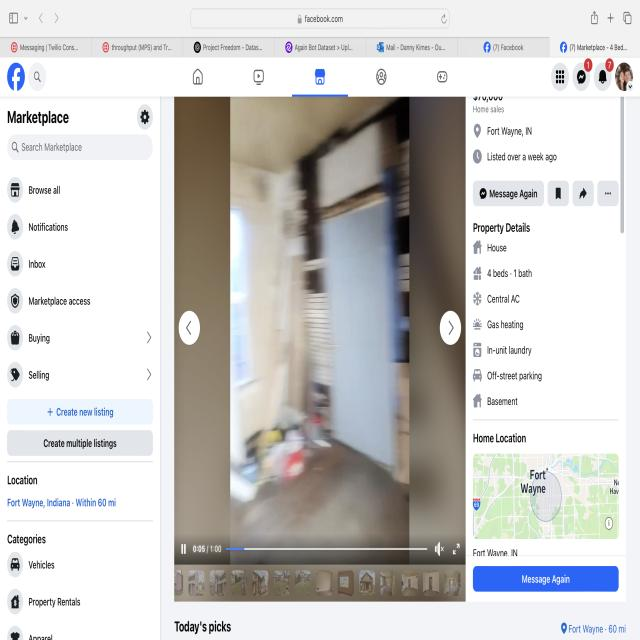message_button: (475, 568, 618, 588)
